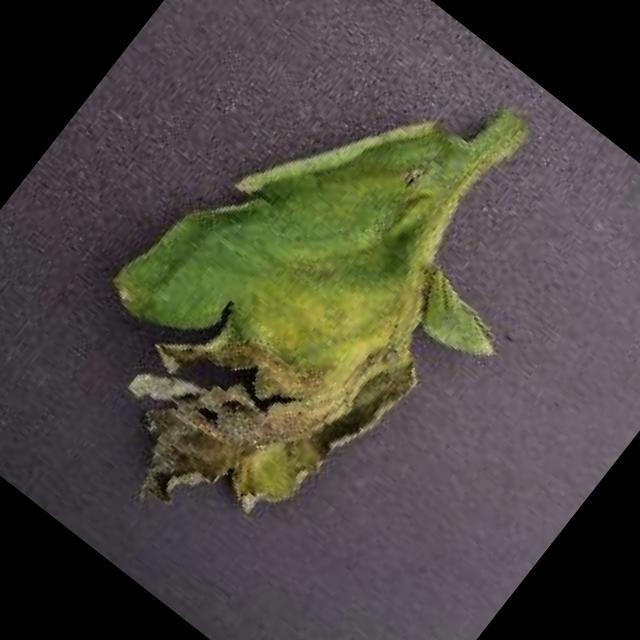Tomato late blight leaf: (13, 14, 593, 618)
